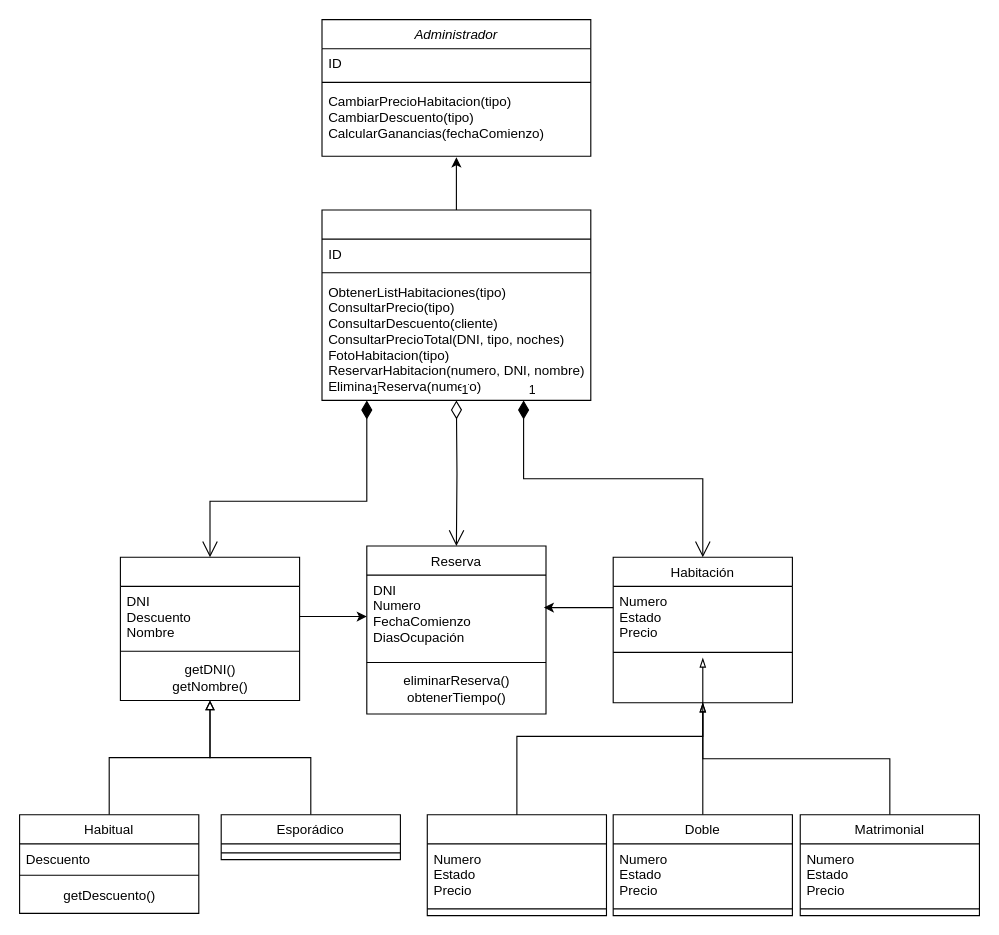
The diagram is 999 pixels wide and 935 high, and some of its shapes have lost their labels. Each missing label, with the box of its shape:
Cliente: (119, 556, 300, 701)
Recepción: (321, 209, 591, 400)
Simple: (426, 814, 606, 916)
